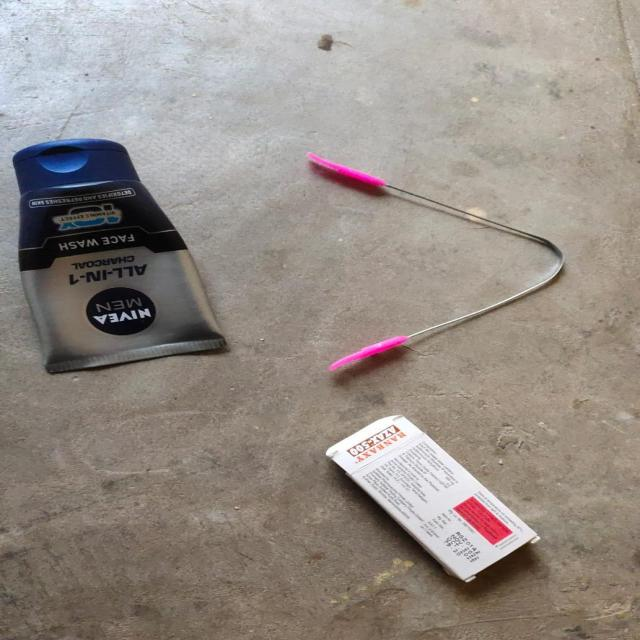metal: (284, 137, 598, 377)
paper: (294, 419, 590, 593)
plastic: (6, 130, 257, 382)
